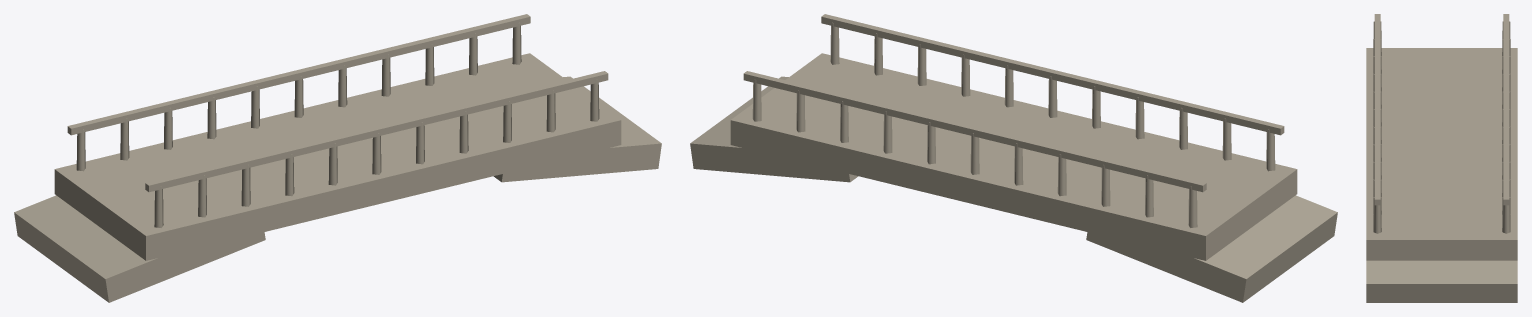
The model's file is bridge.glb.
3 renders of one model, left to right at view 1: azimuth 30°, elevation 25°; view 2: azimuth 150°, elevation 25°; view 3: azimuth 270°, elevation 25°, orthographic. The views are drawn at different scales.
Size of the model in its own units: 7.02 by 1.24 by 2.
